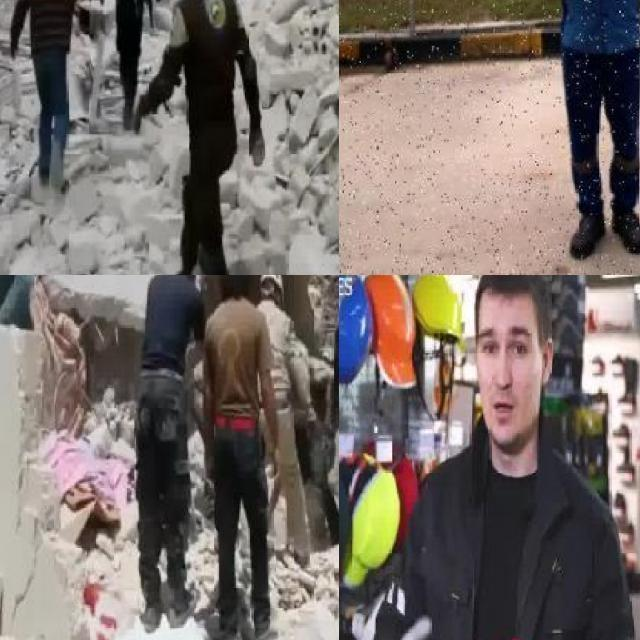apron: (391, 611, 448, 640)
